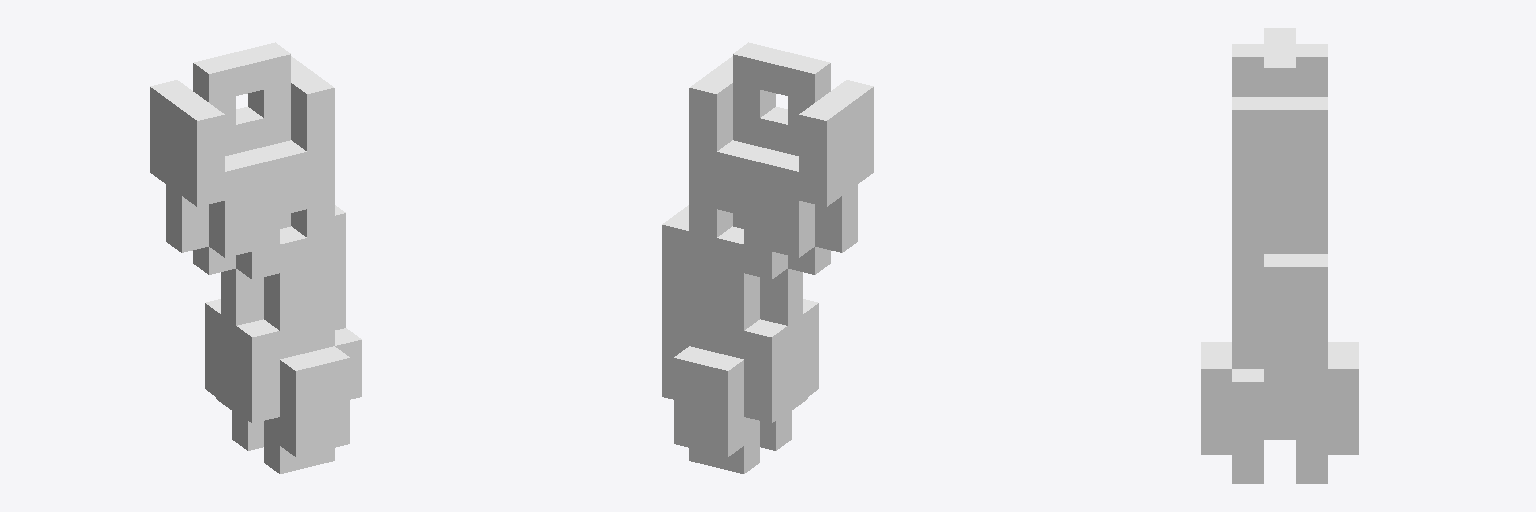
Rendered from Leg-56.obj.
The picture shows the model from 3 angles: view 1: azimuth 30°, elevation 25°; view 2: azimuth 150°, elevation 25°; view 3: azimuth 270°, elevation 25°; orthographic projection.
Parts seen in each view (by area): view 1: object 1; view 2: object 1; view 3: object 1.
Part boxes in pixels (x1,y1,x2,y2): object 1: (150,42,361,473); object 1: (662,42,873,473); object 1: (1201,28,1358,483).
Bounding box in the file's own units: 0.6 × 1.4 × 0.5.